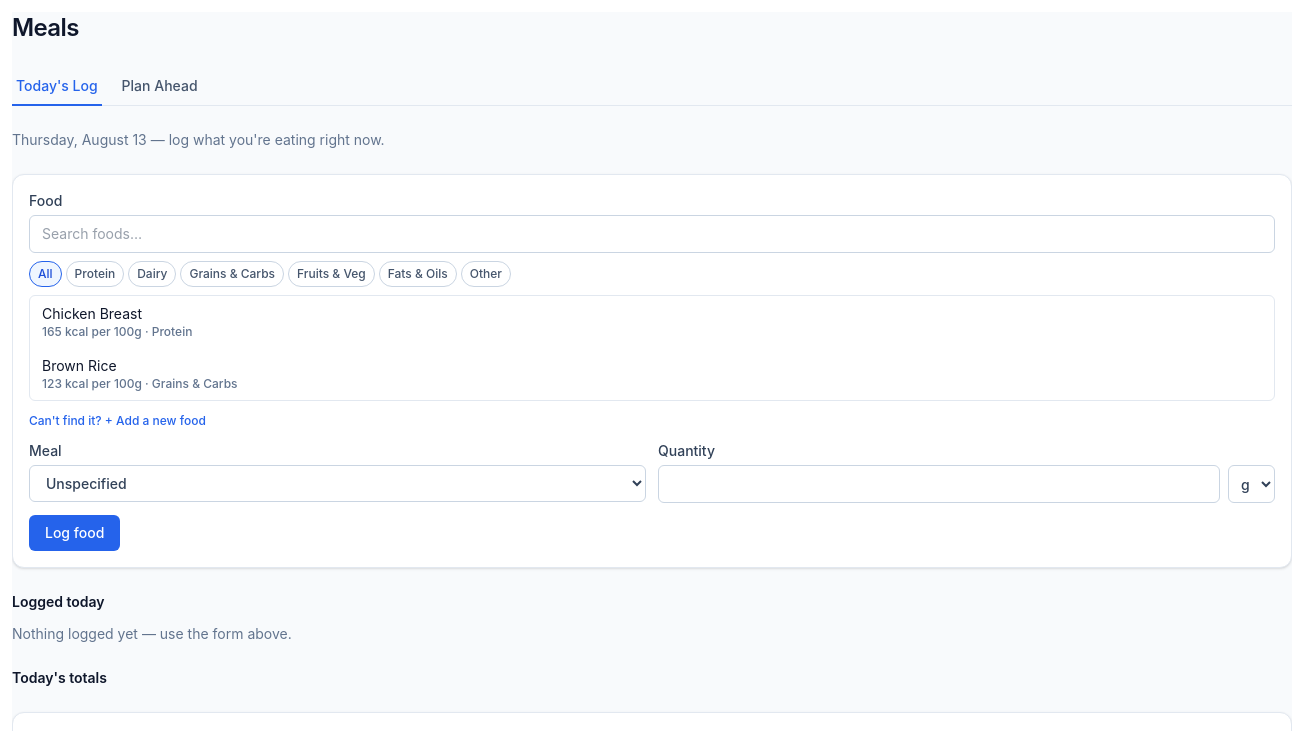
MealPlannerView › groups the food catalog by category
Click the button "Plan Ahead" at (160, 87), box [118,68,202,106]
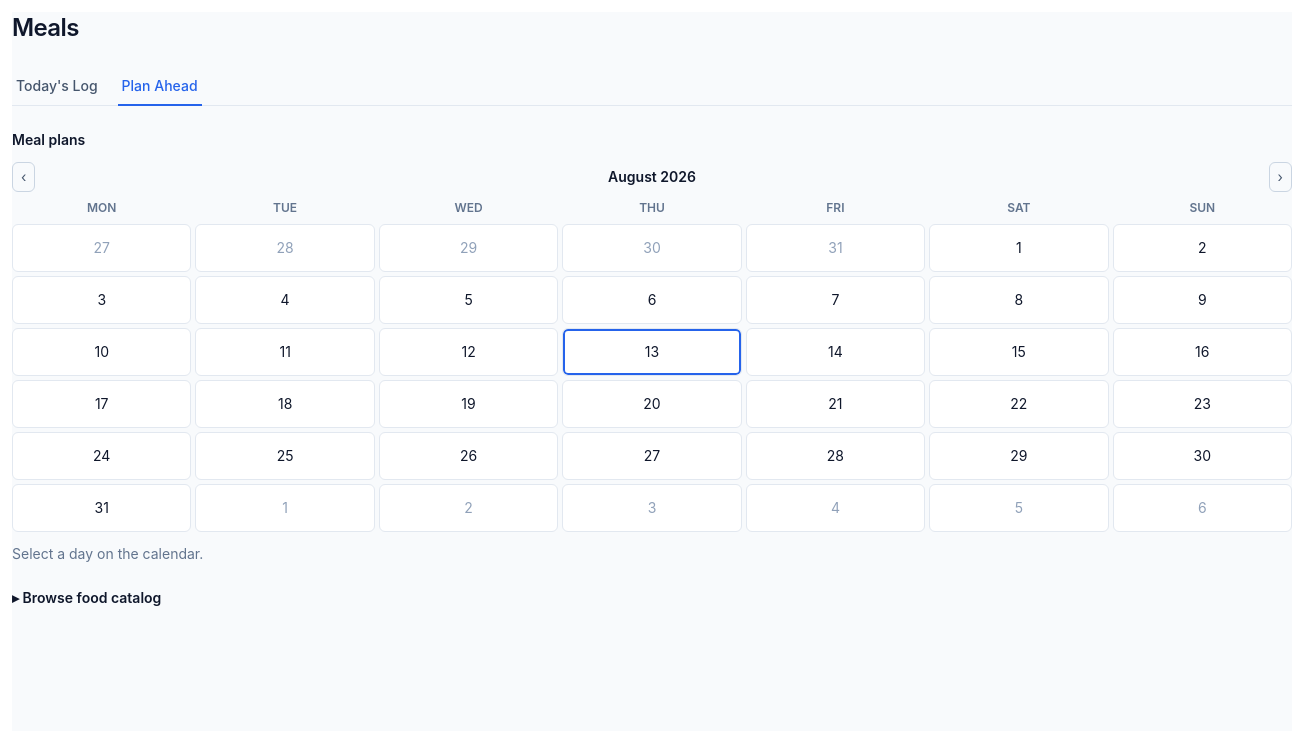
Click the button "▸ Browse food catalog" at (87, 598), box [12,588,161,608]
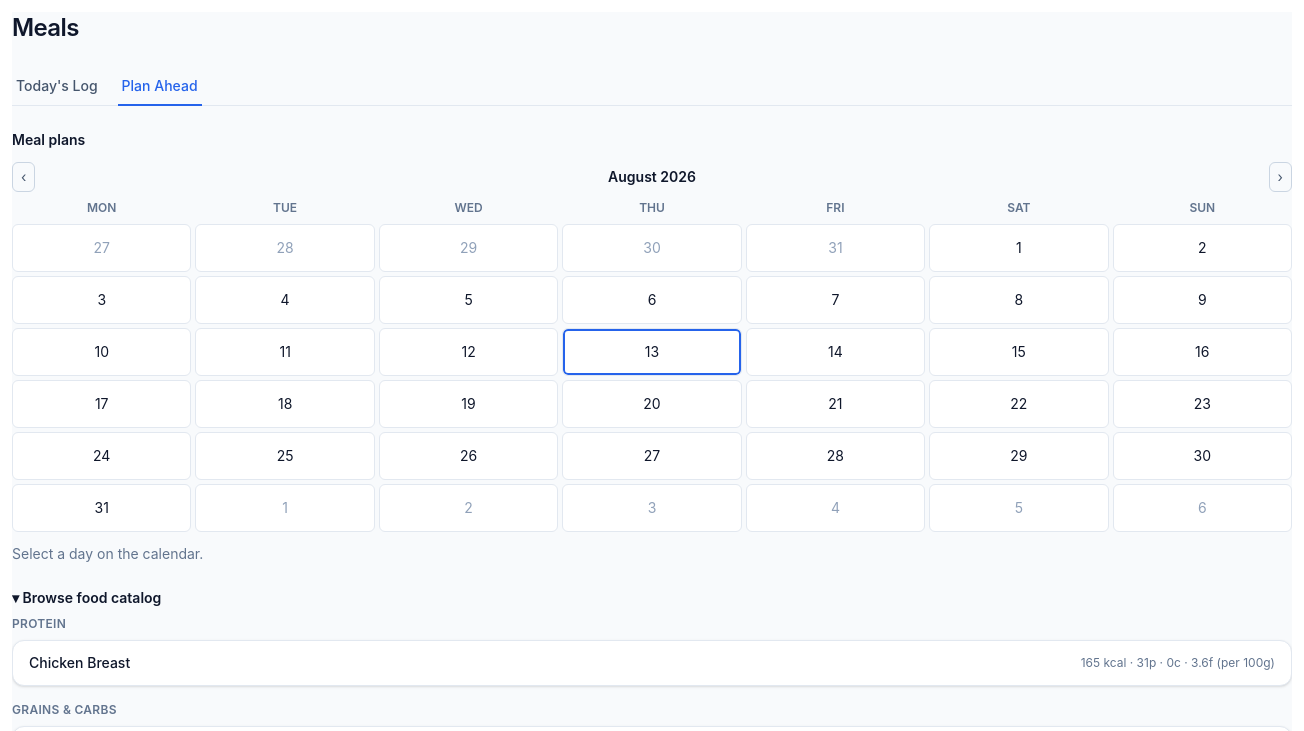
Expected: the text "Protein" is shown, [12,616,66,631]
Expected: the text "Grains & Carbs" is shown, [12,702,117,717]
